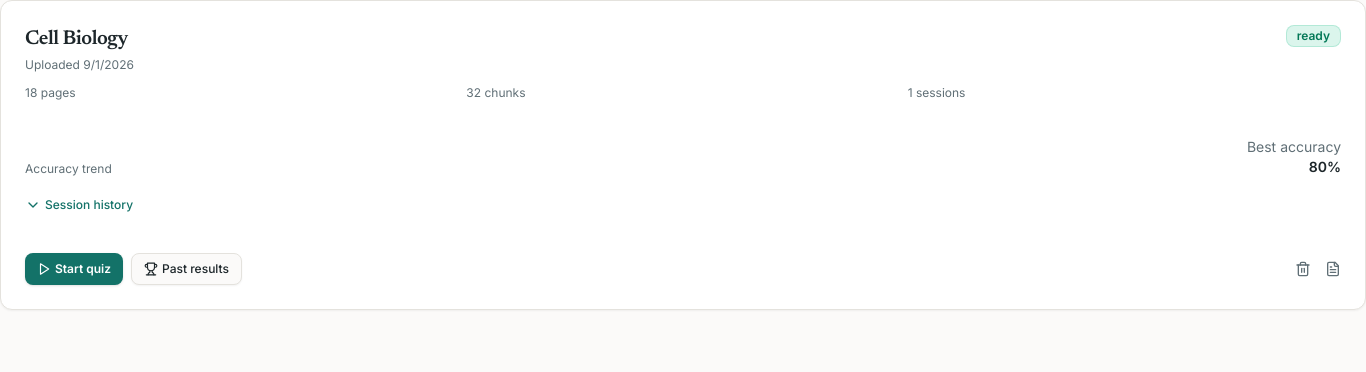
Test case: dashboard components › shows document metadata and expands its session history
Expected: the heading "Cell Biology" is shown, top-left (25, 25), bottom-right (134, 53)
Expected: the text "80%" is shown, top-left (1309, 158), bottom-right (1341, 175)
Click the button "Session history" at (79, 205), box top-left (25, 189), bottom-right (133, 221)
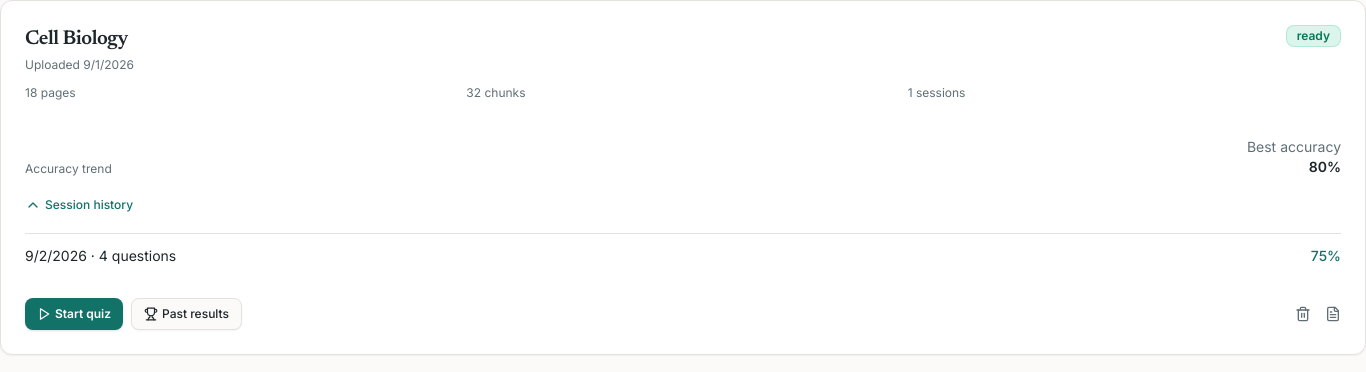
Expected: the list named "past sessions" is shown, top-left (25, 233), bottom-right (1341, 266)
Expected: the text "9/2/2026 · 4 questions" is shown, top-left (25, 246), bottom-right (176, 266)
